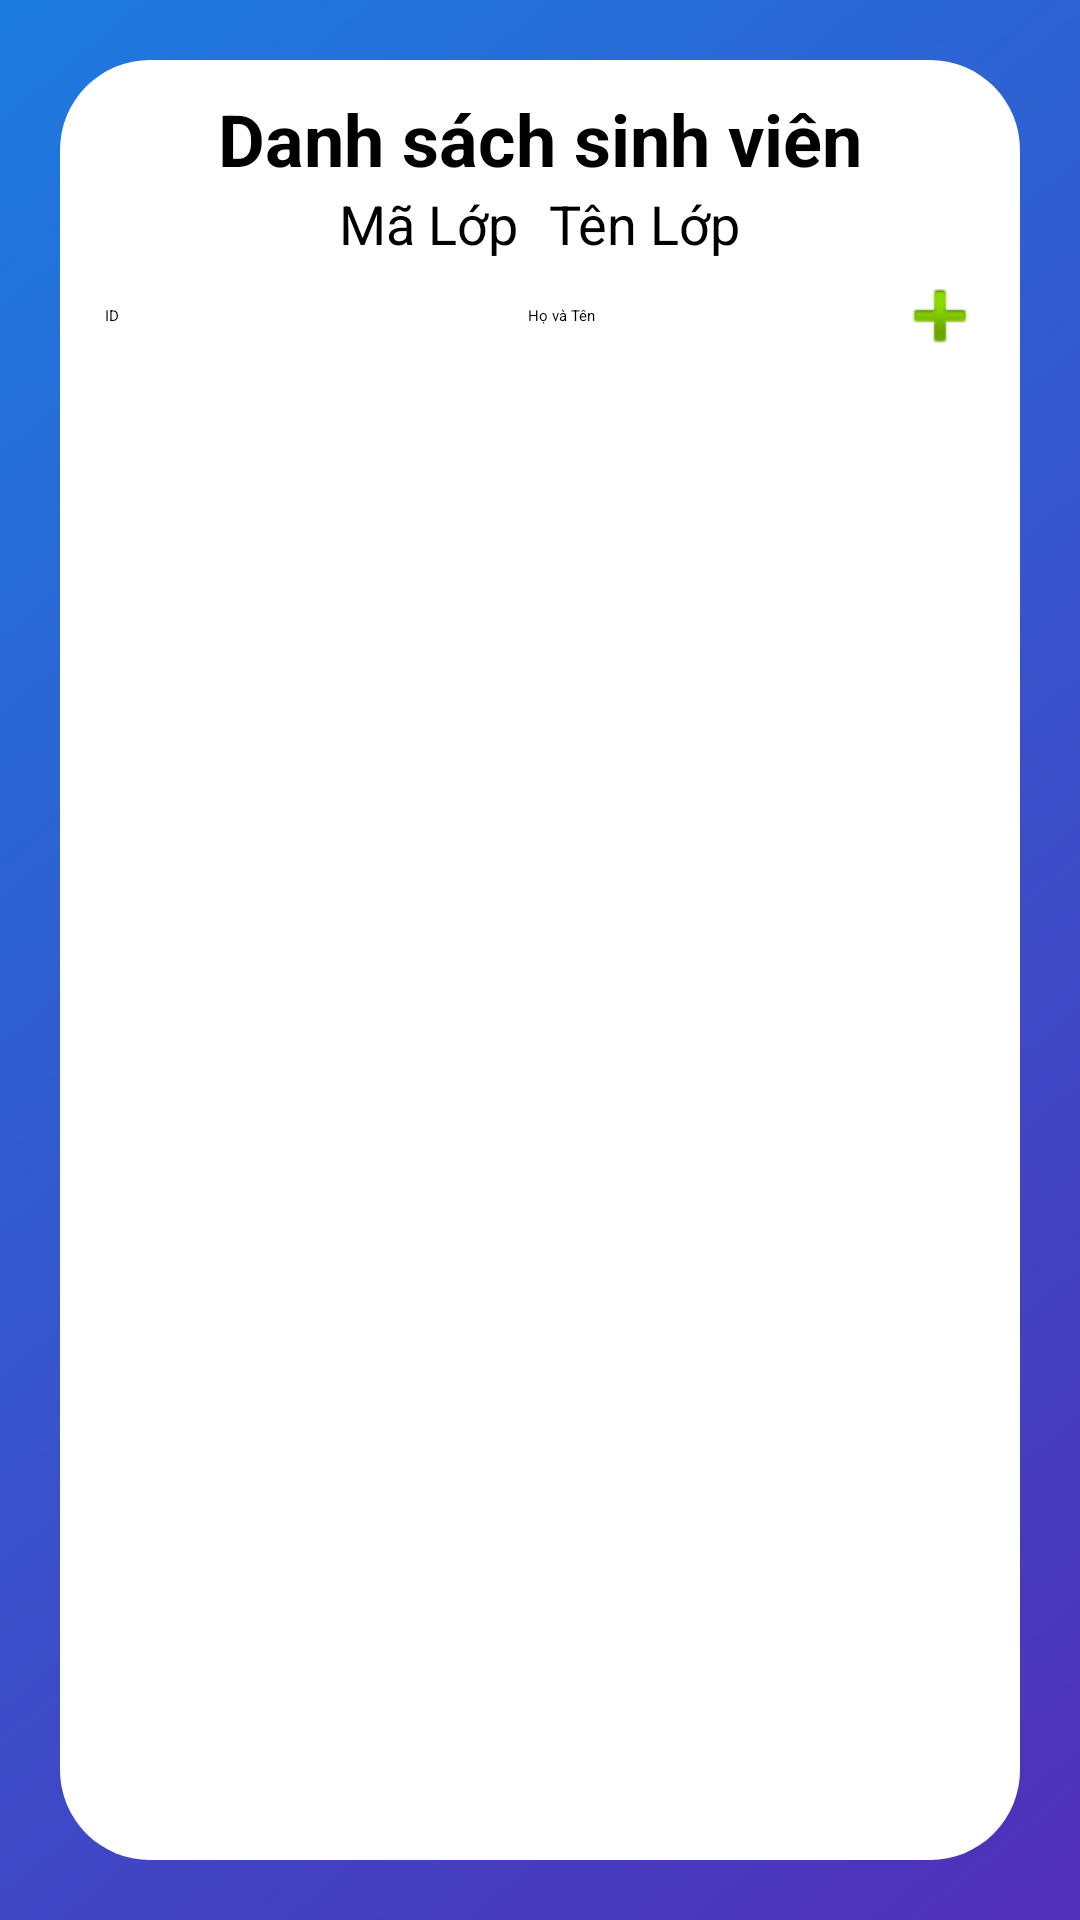

Where to tap for icons on this 1080w x 1920h app screen, as (x,y):
add: (940,316)
